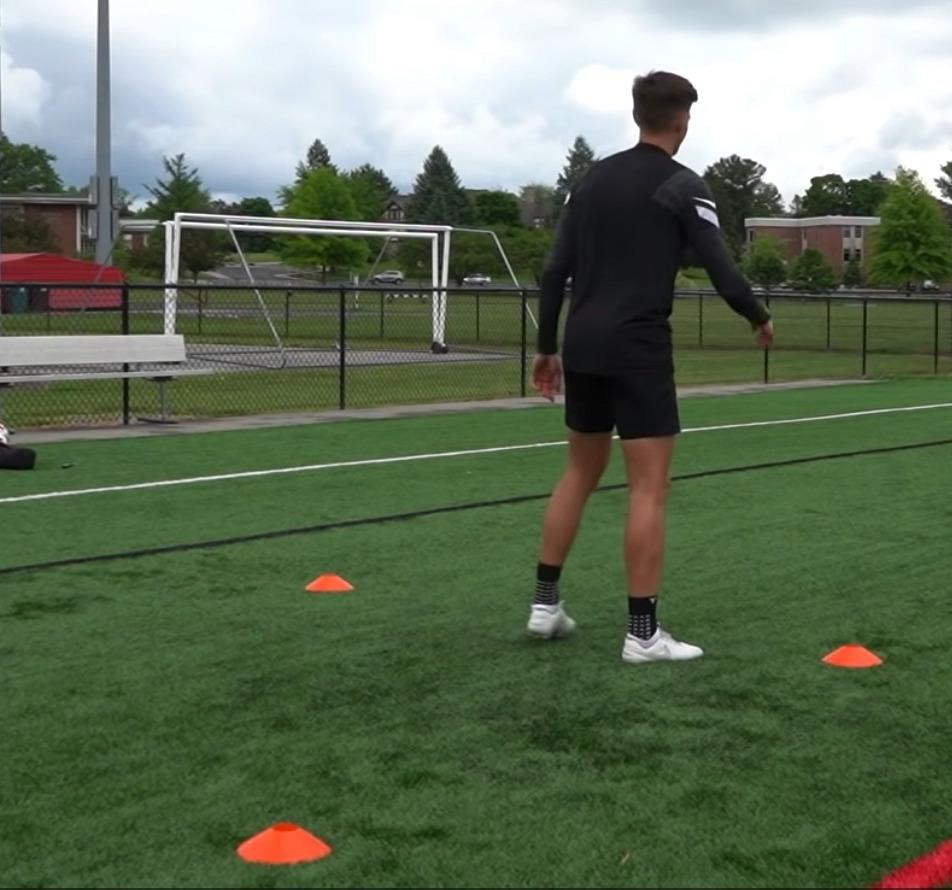foot: (623, 623, 706, 666), (525, 597, 580, 641)
person: (525, 70, 778, 664)
